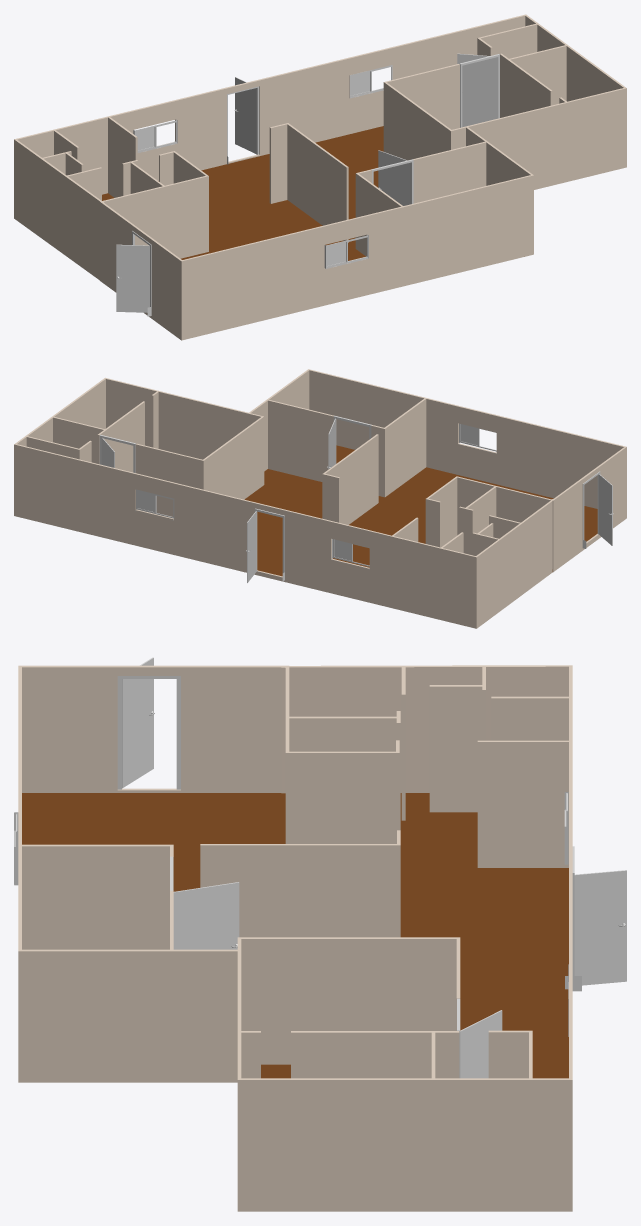
Rendered from ICT.glb.
3 views of the same model, one above another, from view 1: azimuth 30°, elevation 25°; view 2: azimuth 150°, elevation 25°; view 3: azimuth 270°, elevation 25° (orthographic). The views are drawn at different scales.
Visible parts, largest first — view 1: Plane, Plane.001, Door.003, Door, Door.001, Door.002, Window.L.002, Window.L.001; view 2: Plane, Plane.001, Door, Door.001, Window.R.001, DoorFrame.001, Window.R; view 3: Plane, Plane.001, Door.001, Door.002, Door, Door.003, DoorFrame.
Boxes of the visible parts, <box> form: Plane: <box>14,14,626,340</box>; Plane.001: <box>102,126,383,260</box>; Door.003: <box>457,53,498,127</box>; Door: <box>116,244,149,312</box>; Door.001: <box>235,77,257,154</box>; Door.002: <box>378,150,411,205</box>; Window.L.002: <box>326,240,346,267</box>; Window.L.001: <box>350,71,370,96</box>; Plane: <box>14,369,626,628</box>; Plane.001: <box>244,445,597,576</box>; Door: <box>598,474,612,545</box>; Door.001: <box>247,511,256,582</box>; Window.R.001: <box>136,490,156,513</box>; DoorFrame.001: <box>254,508,284,572</box>; Window.R: <box>333,539,352,561</box>; Plane: <box>18,665,572,1211</box>; Plane.001: <box>22,793,568,1078</box>; Door.001: <box>574,870,626,985</box>; Door.002: <box>173,882,239,949</box>; Door: <box>122,657,153,788</box>; Door.003: <box>460,1010,502,1078</box>; DoorFrame: <box>117,676,180,789</box>.
Bounding box in the file's own units: 24.42 × 3.55 × 14.56.
